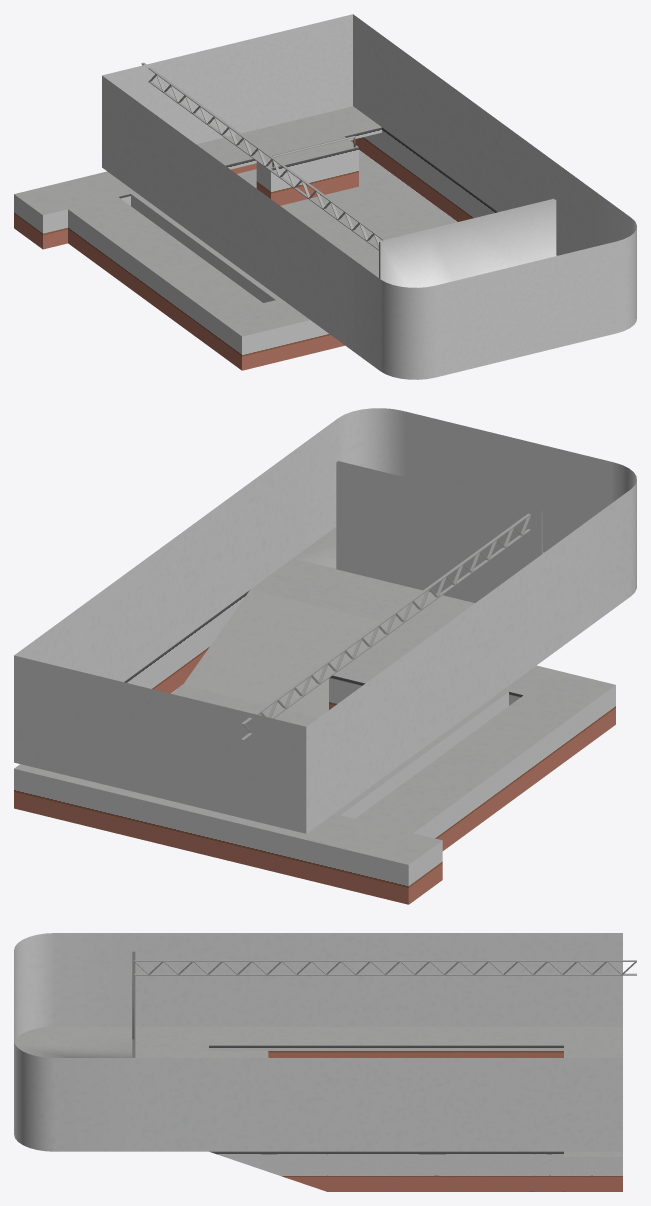
File: map.obj
The picture shows the model from 3 angles, top to bottom: view 1: azimuth 30°, elevation 25°; view 2: azimuth 150°, elevation 25°; view 3: azimuth 270°, elevation 25°; orthographic projection. The views are drawn at different scales.
Parts seen in each view (by area): view 1: Plane, Cube.001; view 2: Plane, Cube.001; view 3: Plane, Cube.001.
Part boxes in pixels (x1,y1,x2,y2): Plane: [14, 14, 636, 379]; Cube.001: [141, 62, 385, 250]; Plane: [14, 408, 636, 904]; Cube.001: [241, 513, 530, 739]; Plane: [14, 933, 622, 1191]; Cube.001: [134, 960, 636, 975].
Size of the model in its own units: 27 by 10 by 42.14.
1 material, 1 textured.
